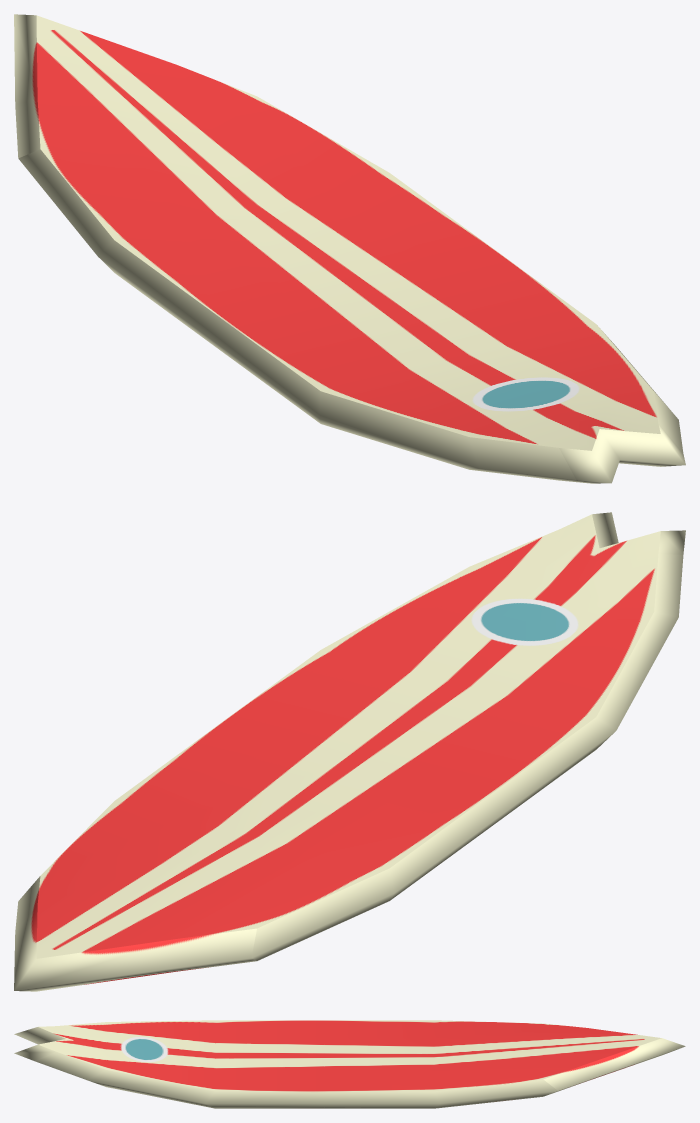
Rendered from surf.fbx.
3 views of the same model, one above another, from view 1: azimuth 30°, elevation 25°; view 2: azimuth 150°, elevation 25°; view 3: azimuth 270°, elevation 25° (orthographic). The views are drawn at different scales.
Visible parts, largest first — view 1: pCube1; view 2: pCube1; view 3: pCube1.
Boxes of the visible parts, x1,y1,x2,y2 form: pCube1: (14, 14, 685, 483); pCube1: (14, 512, 685, 991); pCube1: (14, 1020, 685, 1108).
Bounding box in the file's own units: 5.44 × 1.24 × 20.19.
